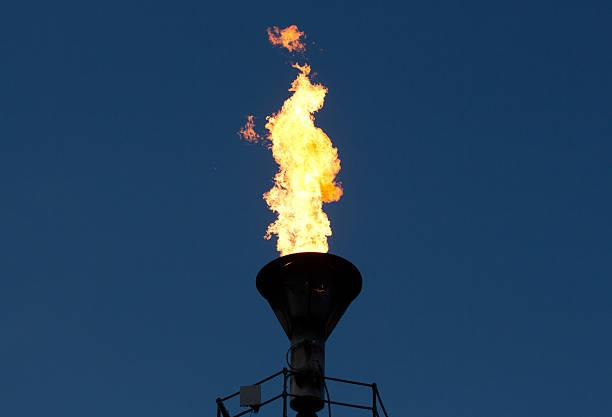Fire: (234, 10, 355, 252)
